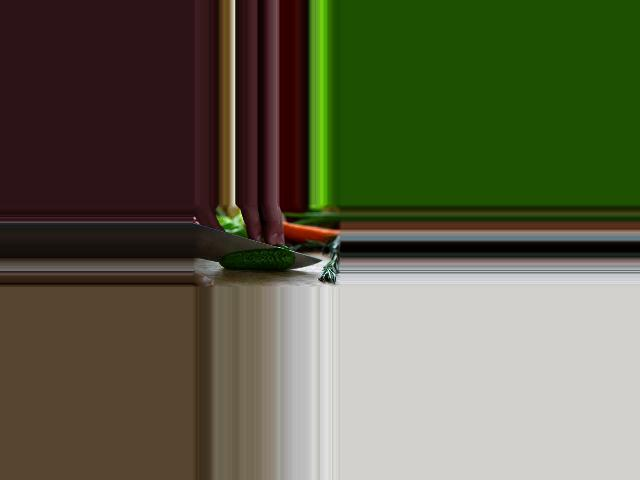cucumber: (220, 248, 295, 271)
